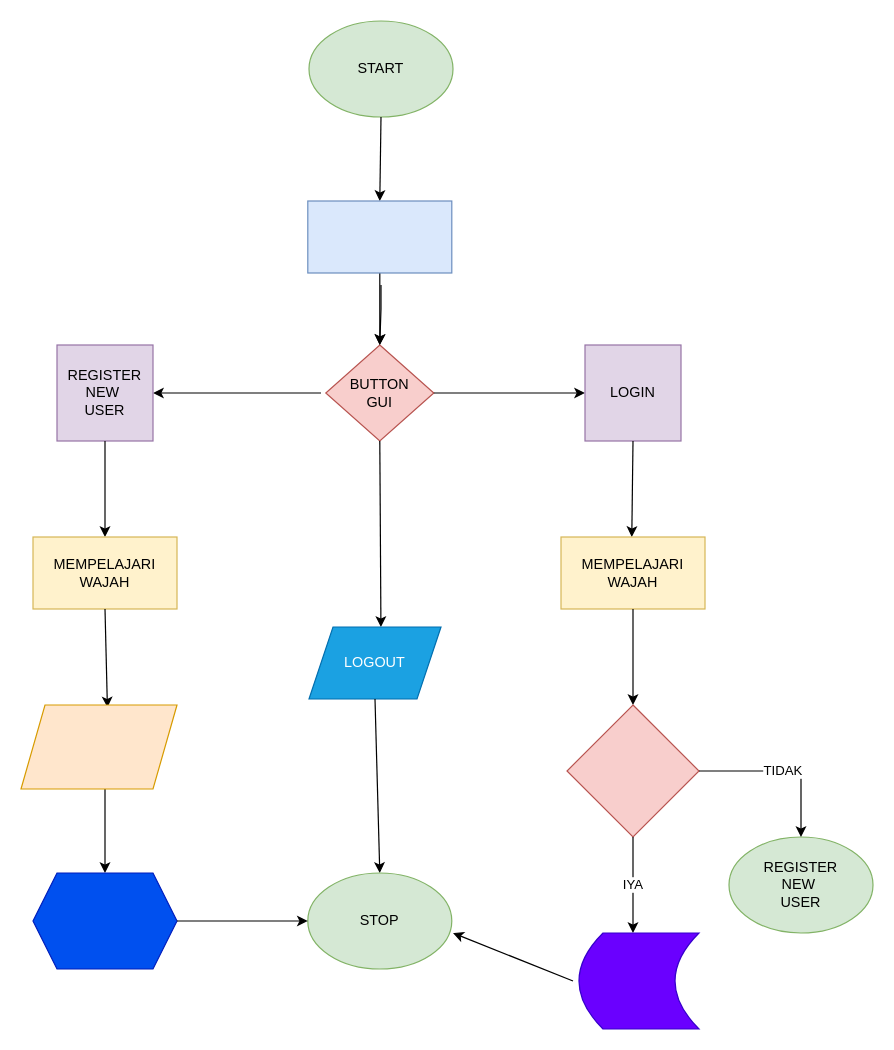
Image size: 894x1050. Some labels were removed from this diagram. Here are the shapes that lost their labels. From the top down, the centre of each, then its label:
At point 379,236: "GUI".
At point 98,746: "PENGISIAN DATA".
At point 632,770: "MENGENALI WAJAH".
At point 104,920: "MENYIMPAN DATA DALAM SQL".
At point 638,980: "OUTPUT DATA USER".
